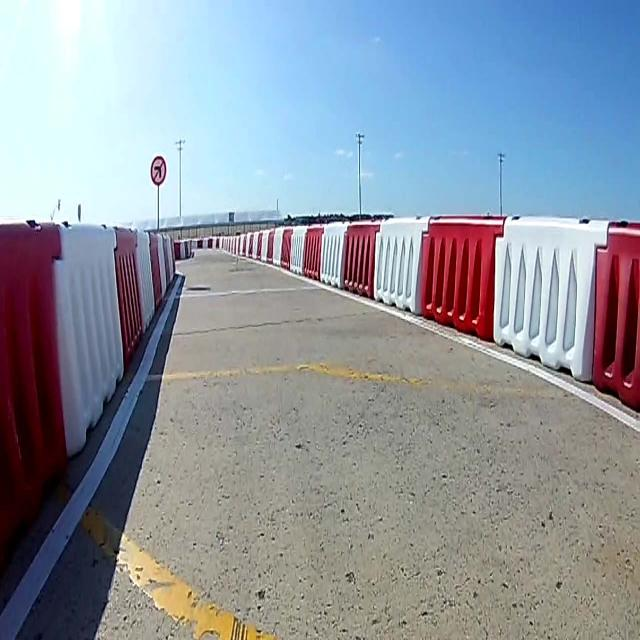soladonulmez: (150, 154, 168, 187)
